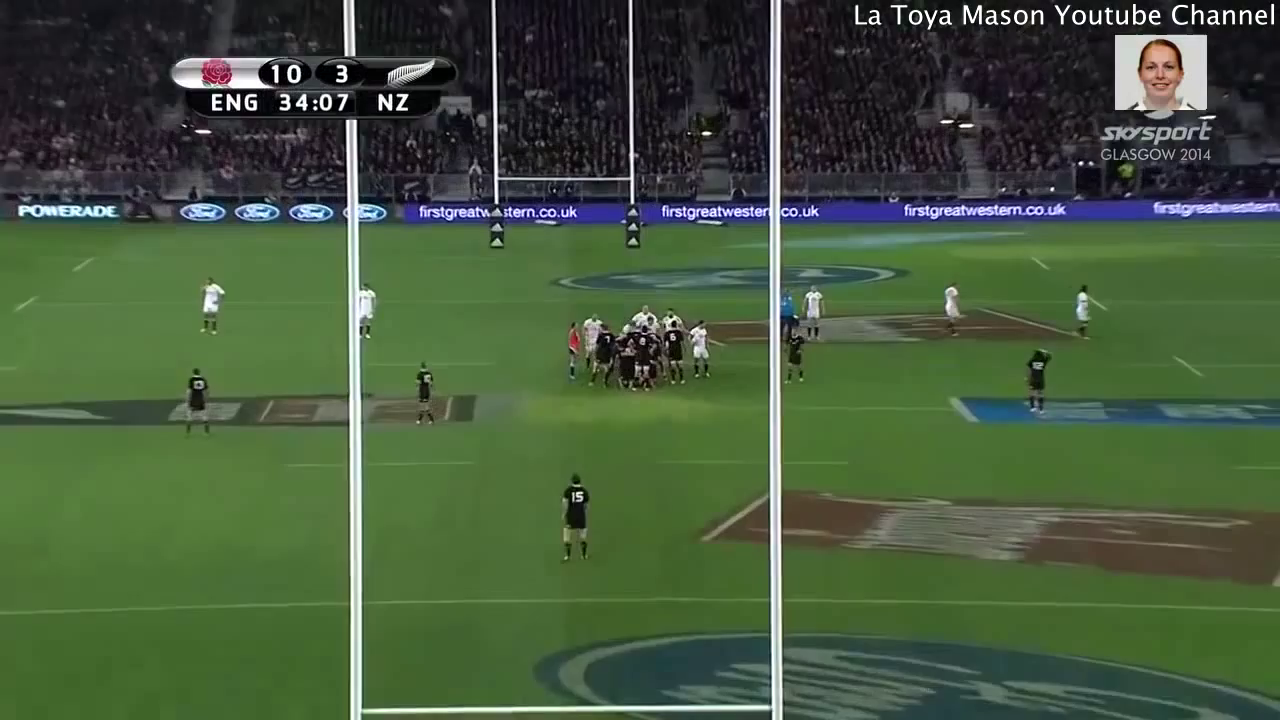player: (553, 471, 597, 567), (180, 368, 220, 444), (192, 273, 229, 343), (409, 357, 444, 428), (1023, 348, 1060, 415), (937, 278, 969, 341), (685, 320, 715, 383), (797, 282, 827, 343), (1071, 278, 1098, 344), (353, 282, 381, 342), (630, 324, 652, 391), (589, 324, 613, 385), (663, 319, 685, 384), (783, 327, 804, 388), (564, 321, 580, 375), (781, 285, 793, 328), (628, 305, 655, 323), (581, 312, 598, 340), (658, 305, 679, 322)
post: (477, 1, 654, 256)
scrum: (599, 331, 673, 381)
